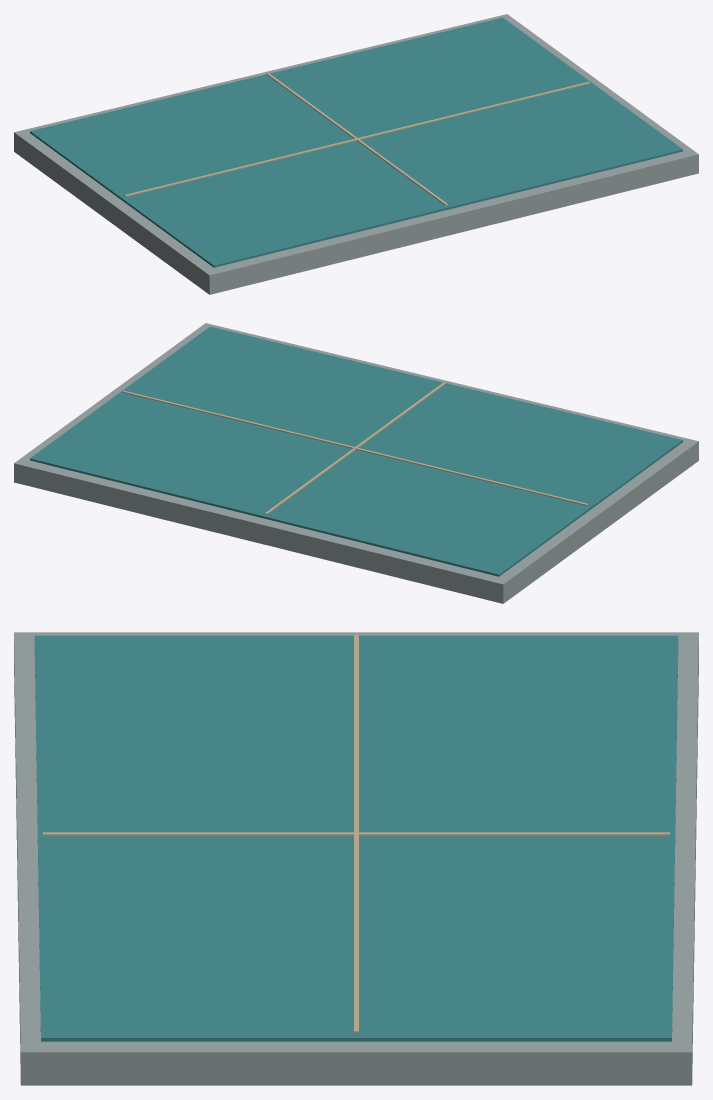
Rendered from solar_panel.glb.
3 views of the same model, one above another, from view 1: azimuth 30°, elevation 25°; view 2: azimuth 150°, elevation 25°; view 3: azimuth 270°, elevation 25° (orthographic). The views are drawn at different scales.
Visible parts, largest first — view 1: WB002V2_SolarFace.005, WB002V2_PanelFrame.005, WB002V2_SolarGridX.001; view 2: WB002V2_SolarFace.005, WB002V2_PanelFrame.005, WB002V2_SolarGridX.001; view 3: WB002V2_SolarFace.005, WB002V2_PanelFrame.005, WB002V2_SolarGridX.001.
Part boxes in pixels (left/top/right/bottom): WB002V2_SolarFace.005: left=30, top=17, right=682, bottom=267; WB002V2_PanelFrame.005: left=14, top=14, right=698, bottom=294; WB002V2_SolarGridX.001: left=124, top=73, right=590, bottom=205; WB002V2_SolarFace.005: left=30, top=326, right=682, bottom=576; WB002V2_PanelFrame.005: left=14, top=323, right=698, bottom=603; WB002V2_SolarGridX.001: left=122, top=382, right=588, bottom=514; WB002V2_SolarFace.005: left=34, top=635, right=678, bottom=1041; WB002V2_PanelFrame.005: left=14, top=632, right=698, bottom=1085; WB002V2_SolarGridX.001: left=43, top=634, right=669, bottom=1033.
Bounding box in the file's own units: 2.9 × 0.139 × 2.
